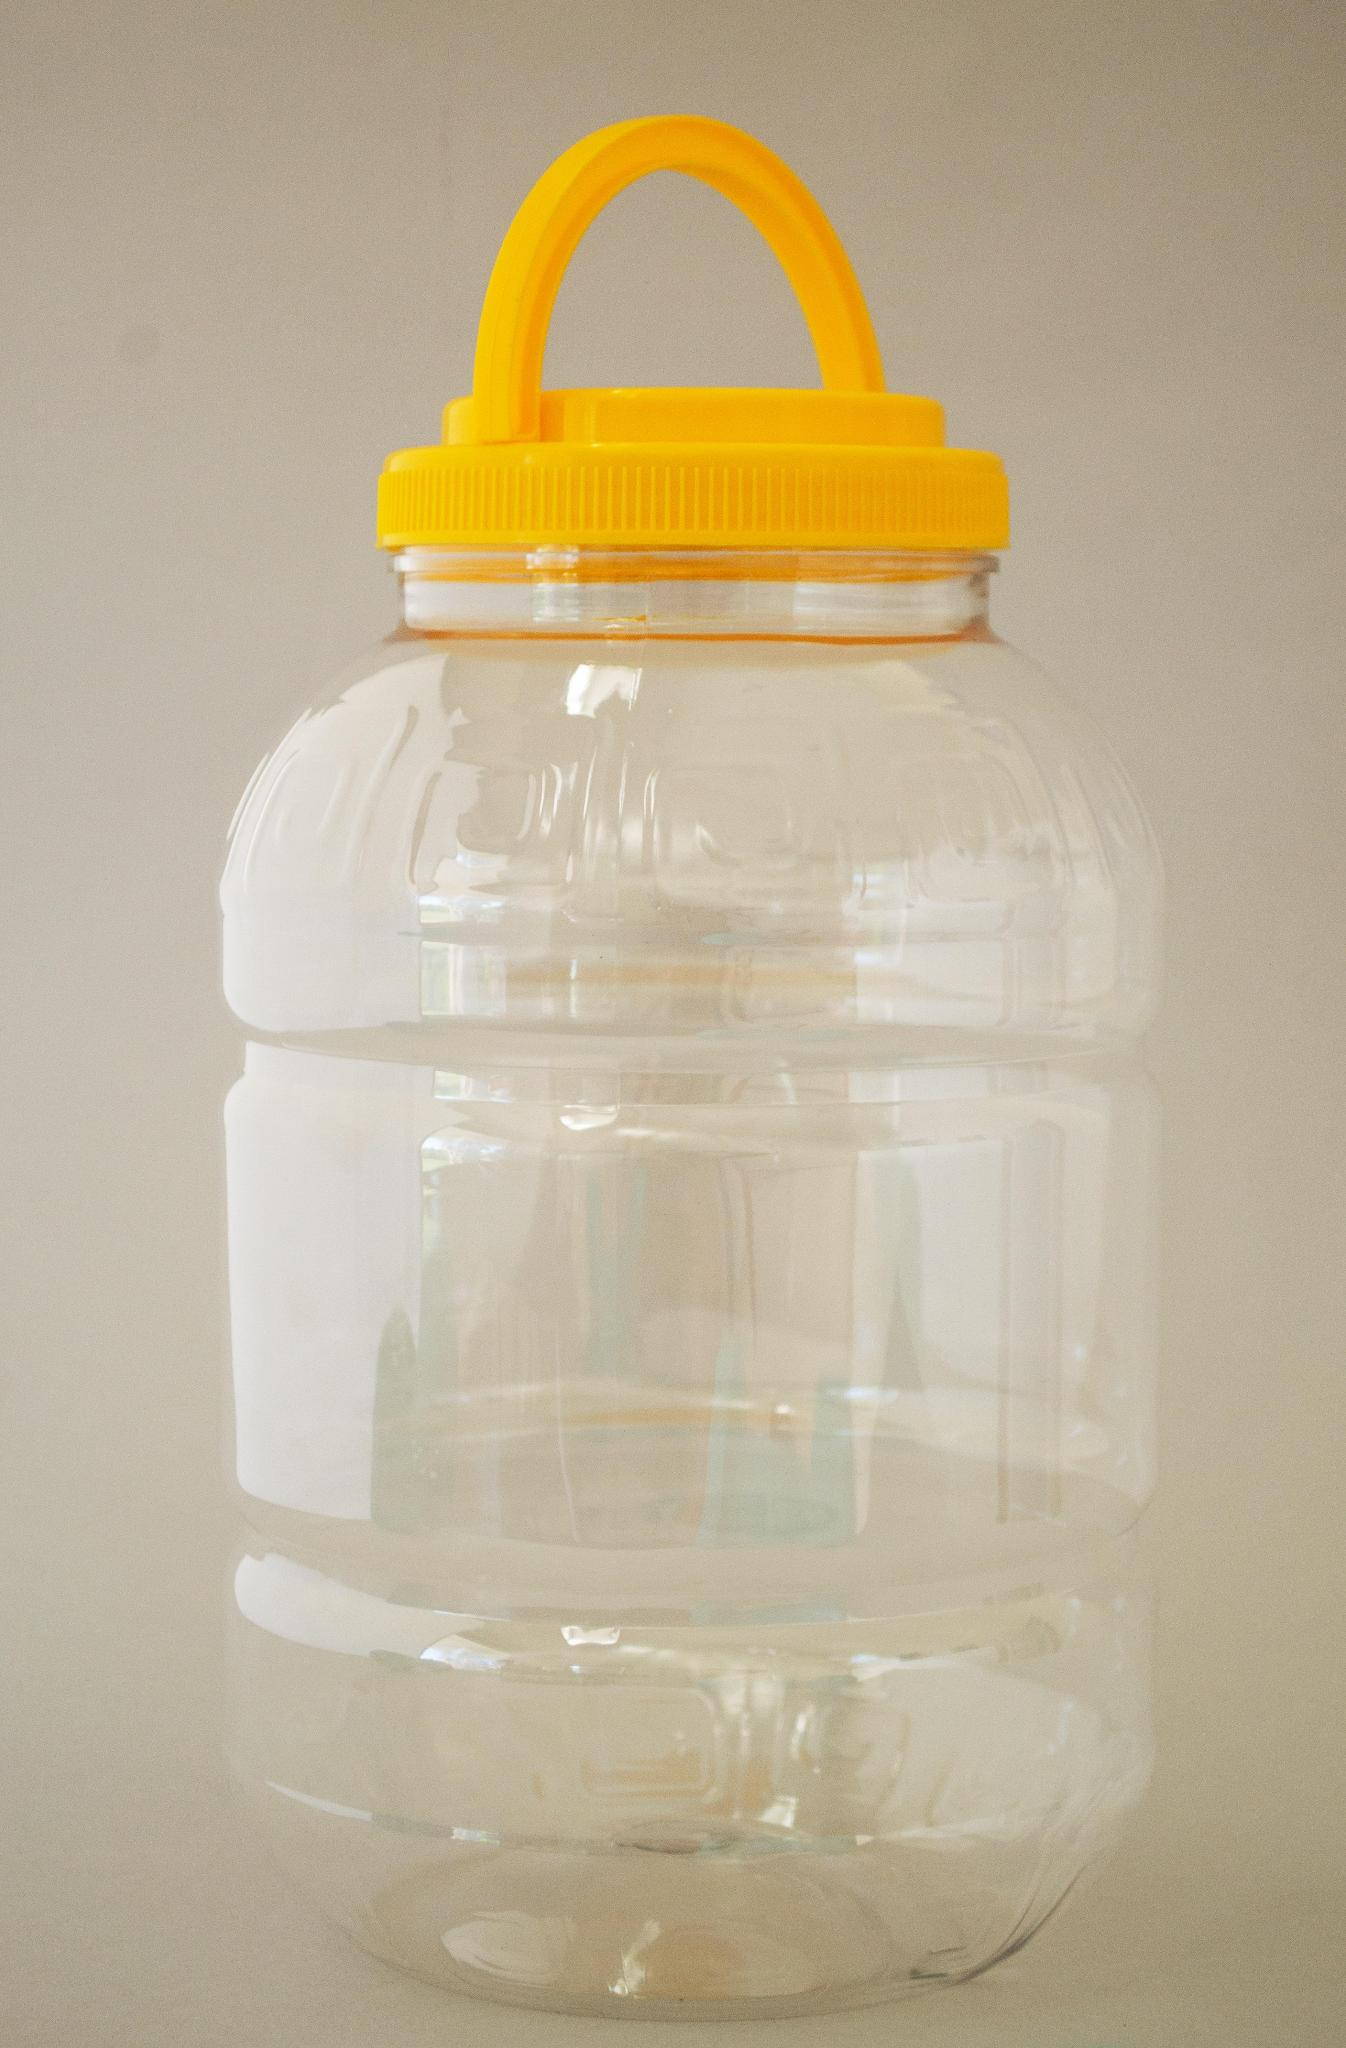bottle: (150, 52, 1250, 2004)
